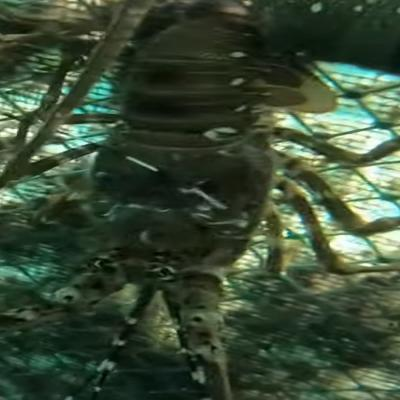lobster: (43, 13, 293, 346)
